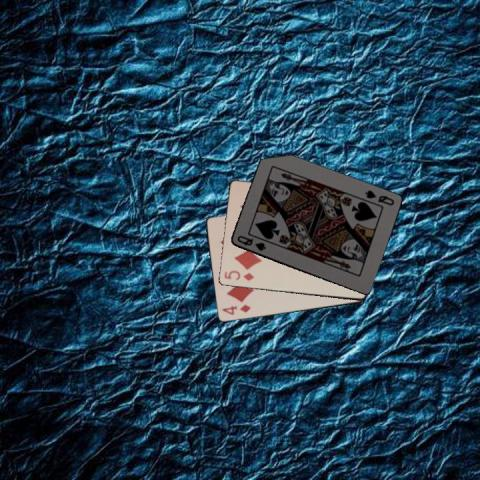4d: (219, 301, 252, 317)
5d: (221, 268, 255, 282)
Qs: (234, 233, 267, 253), (363, 188, 395, 207)
